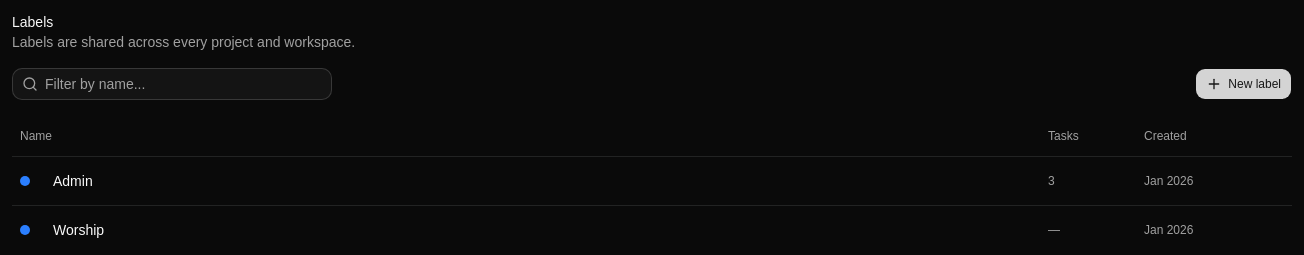
Test: label settings › narrows the table to the labels matching the filter
The image size is (1304, 255).
Type "wor" into the field named "Filter labels by name" at (172, 84), box [12,68,332,100]
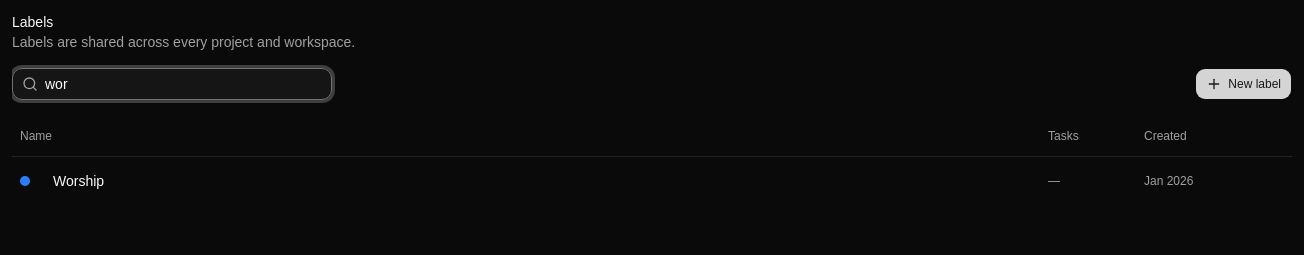
Expected: the button "Worship" is shown, [42,164,266,196]
Now the button "Admin" is gone
